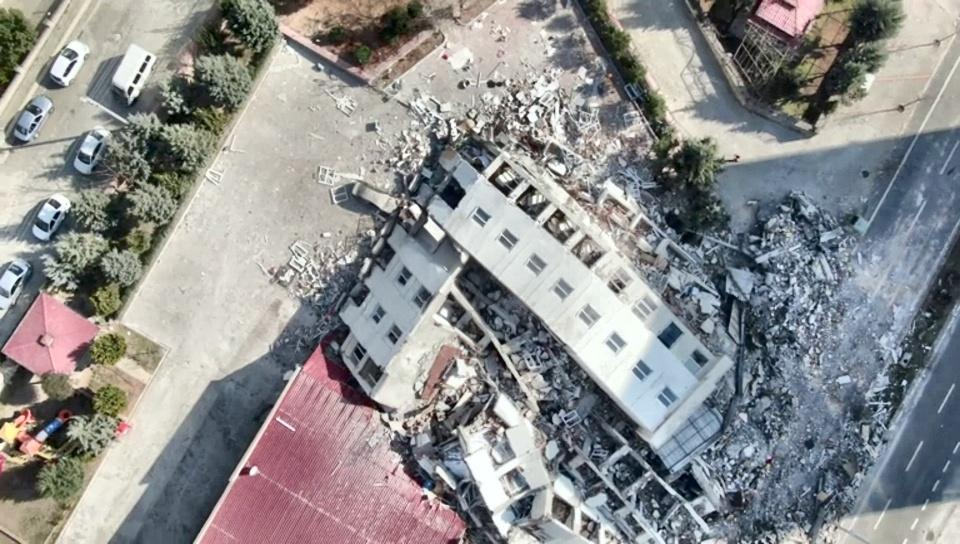kapali: (687, 185, 959, 543)
